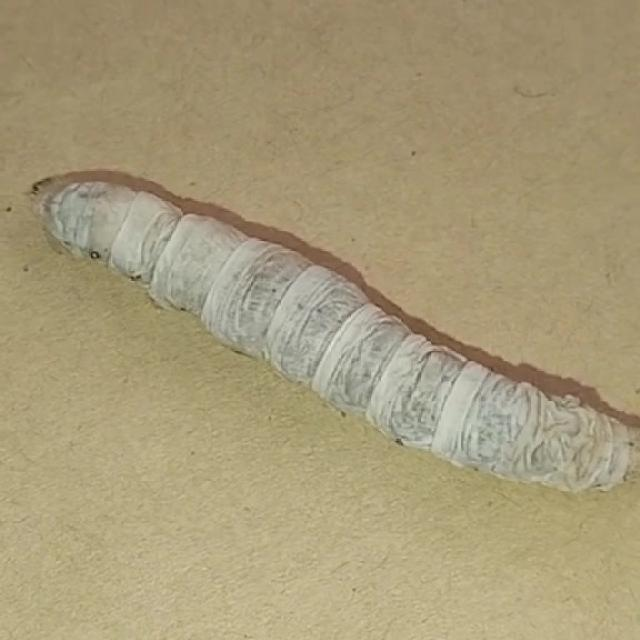Grasserie: (27, 145, 640, 569)
